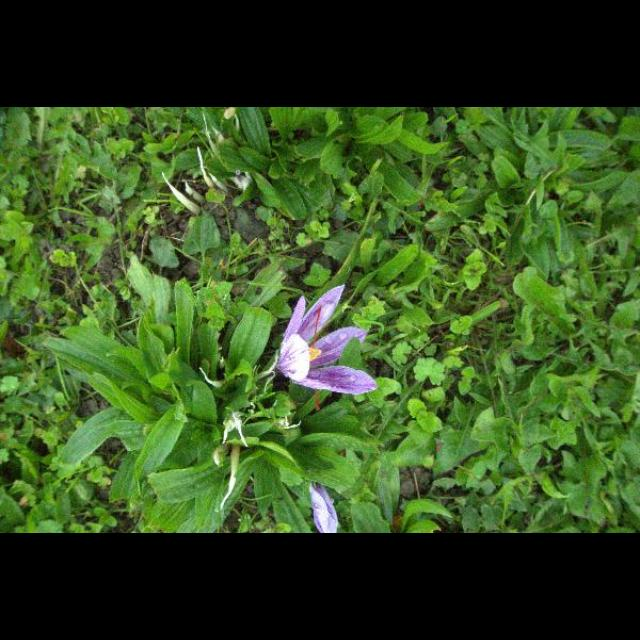flower: (272, 285, 380, 411)
